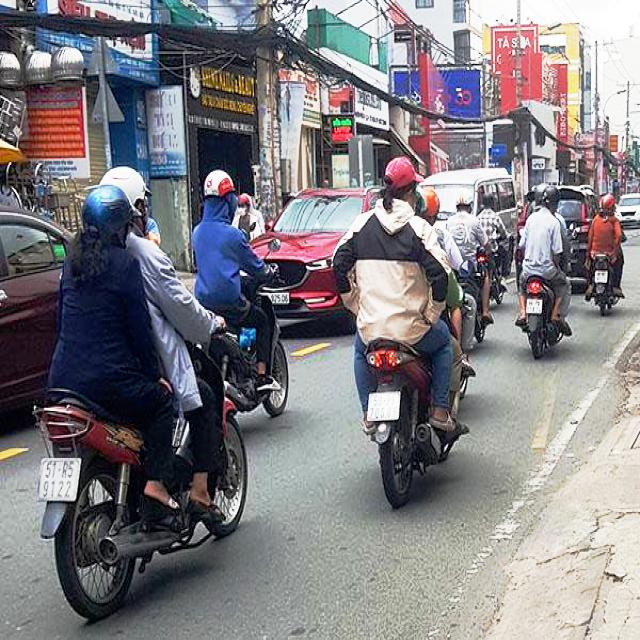license_plate: (38, 459, 82, 502), (368, 393, 401, 420), (527, 300, 543, 314), (596, 272, 608, 283)
